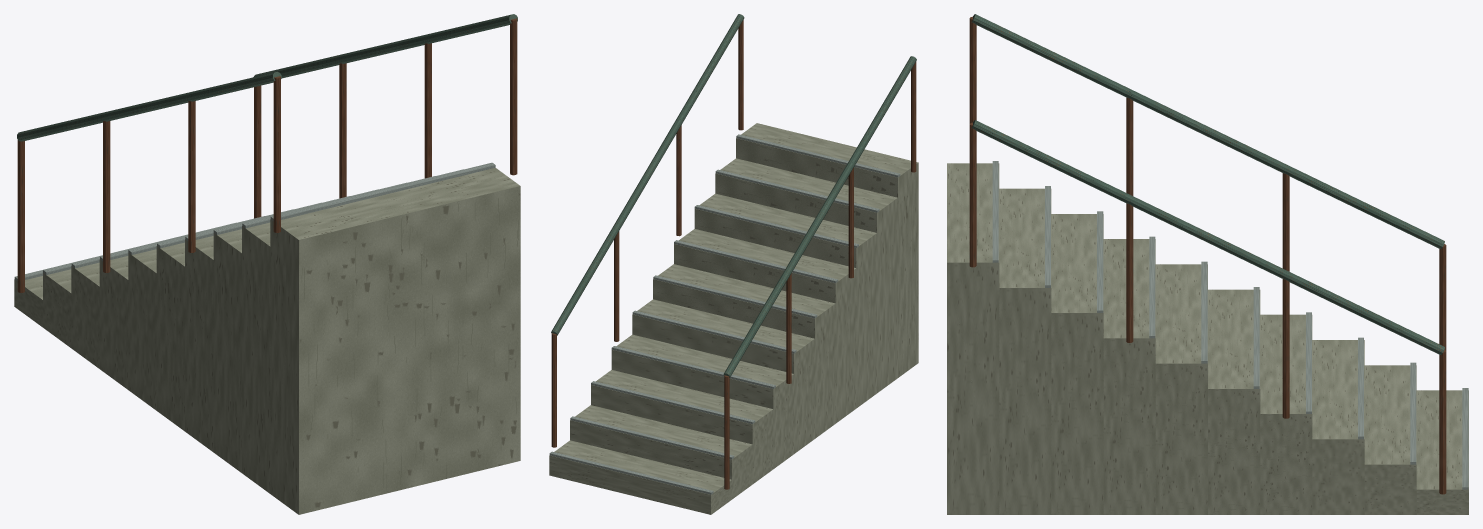
File: Stair_3m.glb
The picture shows the model from 3 angles, left to right: view 1: azimuth 30°, elevation 25°; view 2: azimuth 150°, elevation 25°; view 3: azimuth 270°, elevation 25°; orthographic projection. The views are drawn at different scales.
Parts seen in each view (by area): view 1: Stair_3m; view 2: Stair_3m; view 3: Stair_3m.
Part boxes in pixels (left/top/right/bottom): Stair_3m: left=14, top=14, right=520, bottom=514; Stair_3m: left=549, top=14, right=918, bottom=514; Stair_3m: left=947, top=14, right=1468, bottom=514.
Size of the model in its own units: 1.49 by 2.52 by 3.
4 materials, 4 textured.
